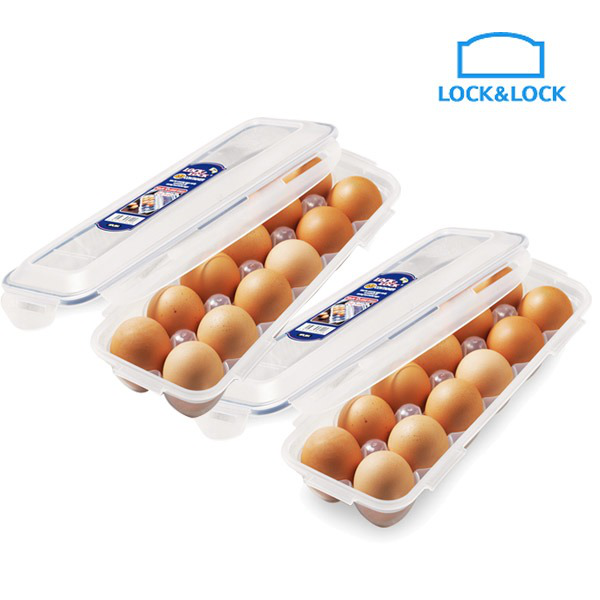egg: (108, 154, 386, 399), (299, 268, 570, 503)
